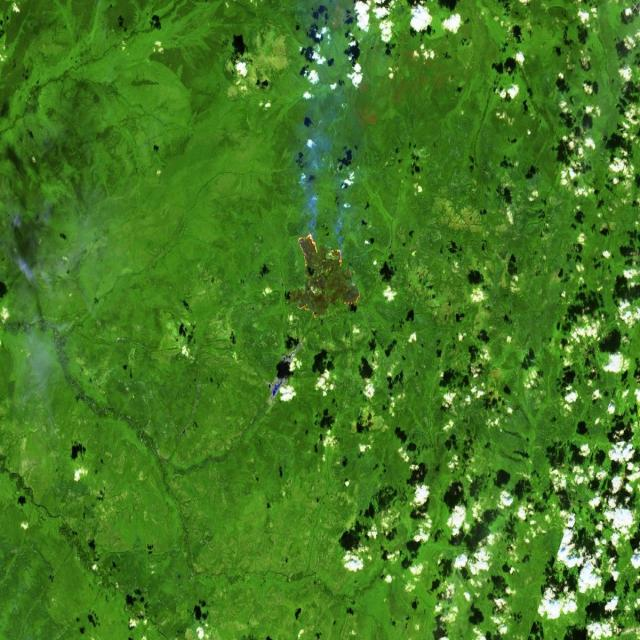fire: (292, 228, 364, 317)
